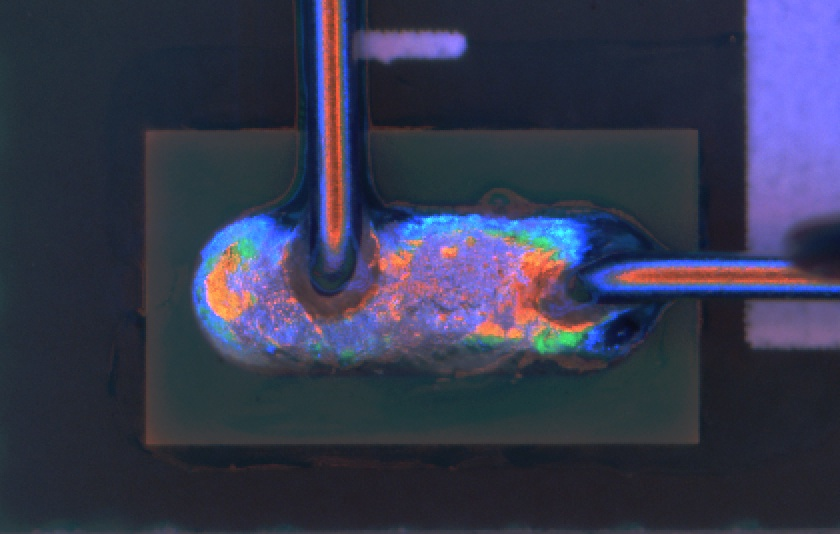spring: (552, 236, 840, 307), (300, 1, 363, 313)
spring_pin: (192, 208, 659, 355)
